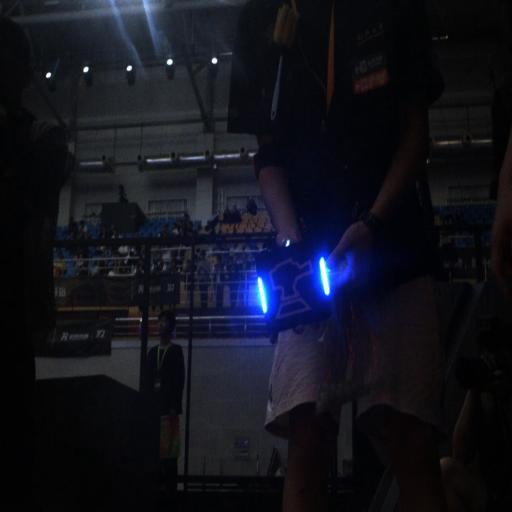target: (251, 247, 335, 326)
